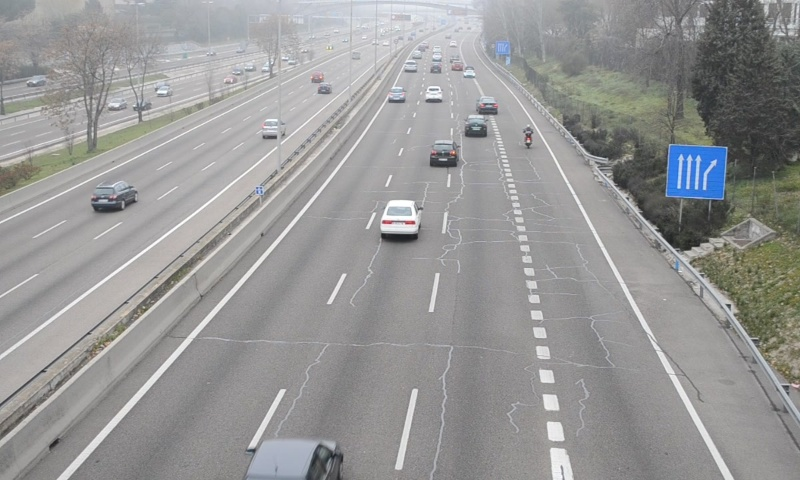car: (380, 200, 422, 236), (430, 140, 456, 165), (464, 114, 487, 137), (477, 96, 499, 114), (424, 85, 444, 102), (387, 86, 405, 103)
motorcycle: (523, 124, 535, 150)
